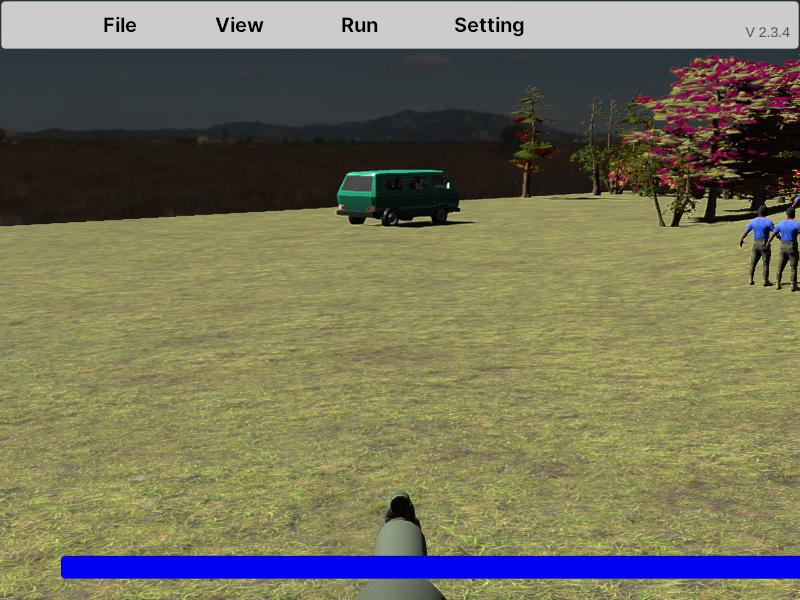Human: (740, 203, 781, 285), (765, 206, 800, 291), (792, 184, 800, 242)
car: (336, 169, 460, 228)
